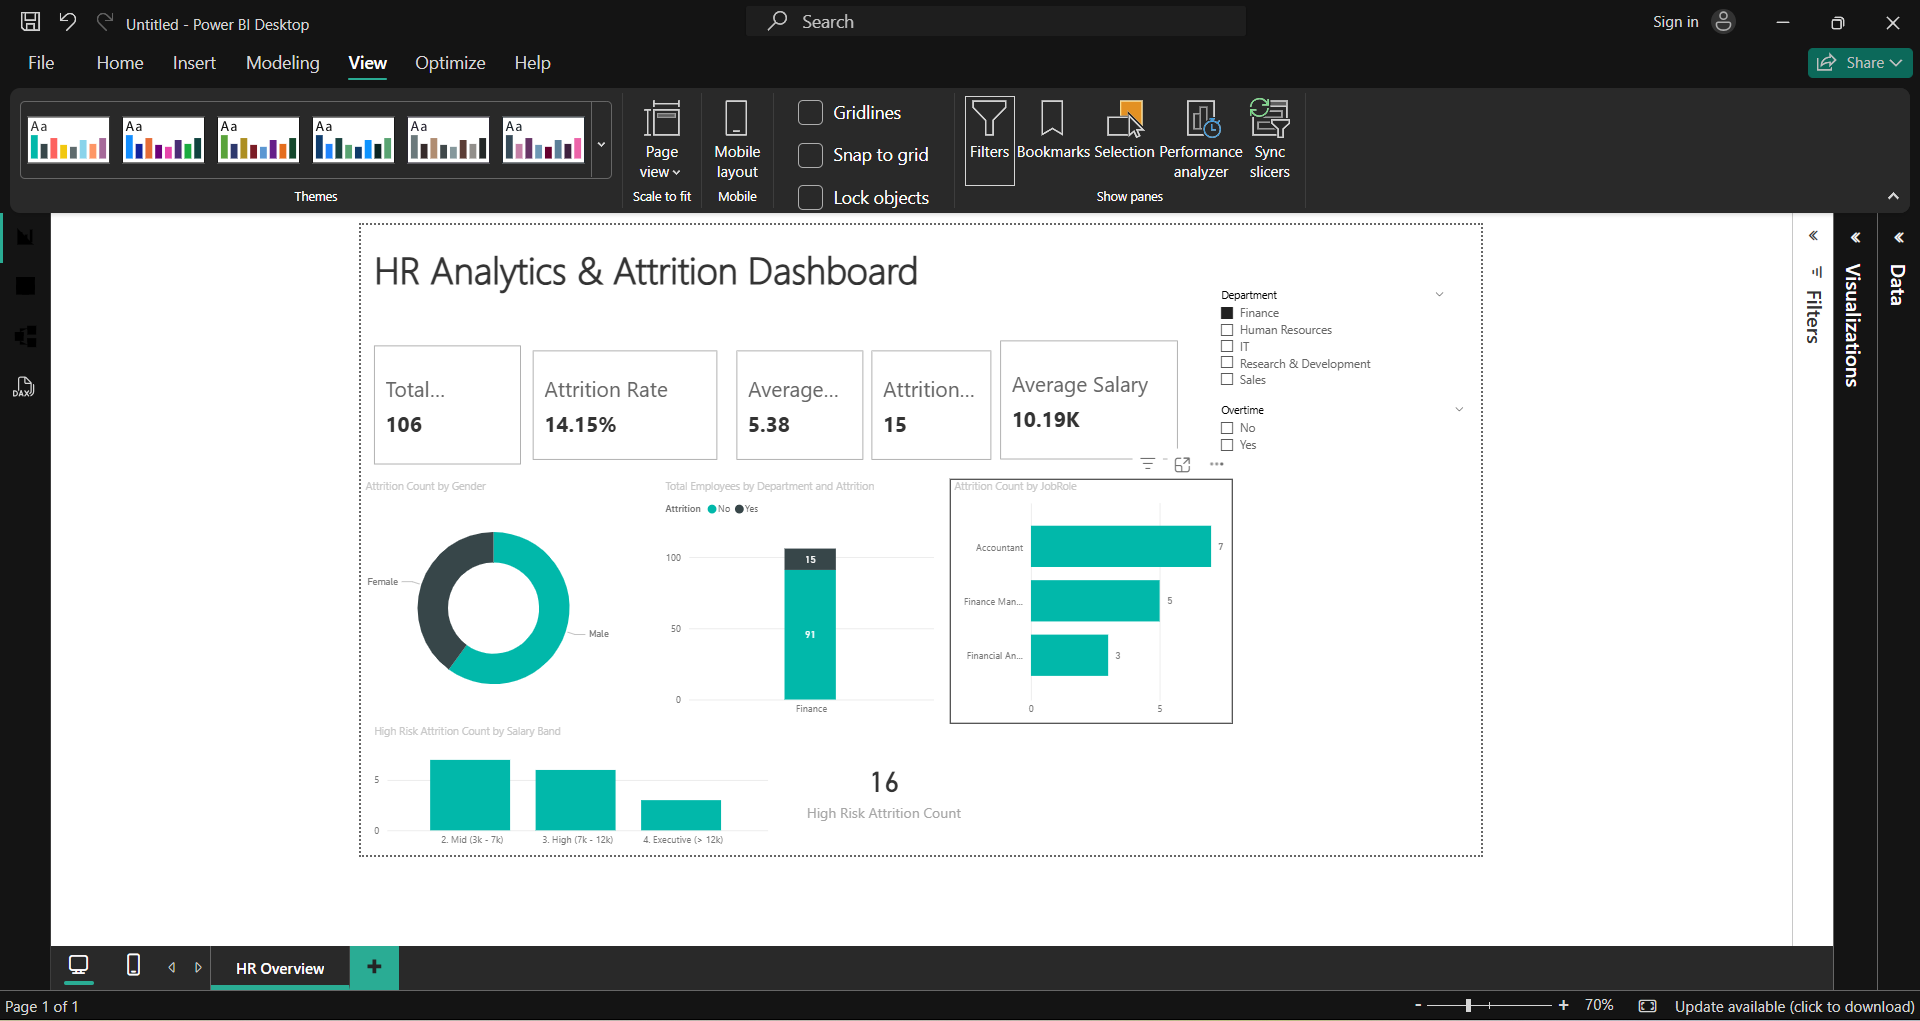

Layout of this report page (visuals, bound fields, positions):
{"tool":"powerbi","page":{"name":"HR Overview","canvas":[1280,720],"ordinal":0},"visuals":[{"type":"cardVisual","fields":{"Data":["HR_Employee_Data.Total Employees"]},"box":[10,133.3,178.3,146.7],"z":0},{"type":"cardVisual","fields":{"Data":["HR_Employee_Data.Attrition Count"]},"box":[578.8,138.8,147.5,135],"z":1},{"type":"cardVisual","fields":{"Data":["HR_Employee_Data.Attrition Rate"]},"box":[191.7,138.3,221.7,135],"z":2},{"type":"cardVisual","fields":{"Data":["HR_Employee_Data.Average Salary"]},"box":[726.2,127.5,213.8,146.2],"z":3},{"type":"cardVisual","fields":{"Data":["HR_Employee_Data.Average Tenure"]},"box":[423.8,138.8,155,135],"z":4},{"type":"columnChart","fields":{"Category":["HR_Employee_Data.Department"],"Y":["HR_Employee_Data.Total Employees"],"Series":["HR_Employee_Data.Attrition"]},"box":[343.3,290,316.7,280],"z":5},{"type":"clusteredBarChart","fields":{"Y":["HR_Employee_Data.Attrition Count"],"Category":["HR_Employee_Data.JobRole"]},"box":[673.3,290,321.7,280],"z":6},{"type":"donutChart","fields":{"Y":["HR_Employee_Data.Attrition Count"],"Category":["HR_Employee_Data.Gender"]},"box":[0,290,303.3,280],"z":7},{"type":"slicer","fields":{"Values":["HR_Employee_Data.Department"]},"box":[970,66.7,280,190],"z":8},{"type":"textbox","box":[10,15,745,95],"z":9},{"type":"slicer","fields":{"Values":["HR_Employee_Data.Overtime"]},"box":[970,198.8,302.5,81.2],"z":10},{"type":"clusteredColumnChart","fields":{"Category":["HR_Employee_Data.Salary Band"],"Y":["HR_Employee_Data.High Risk Attrition Count"]},"box":[10,570,460,150],"z":11},{"type":"card","fields":{"Values":["HR_Employee_Data.High Risk Attrition Count"]},"box":[501.2,570,192.5,150],"z":12}]}

Visuals, with their boxes on the page's 1280x720 design canvas (x1, y1, x2, y2). These are canvas units, not pixel positions in the 1920x1021 screenshot, which may show the page scaled, cropped or inside an application window:
cardVisual - HR_Employee_Data.Total Employees: l=10, t=133, r=188, b=280
cardVisual - HR_Employee_Data.Attrition Count: l=579, t=139, r=726, b=274
cardVisual - HR_Employee_Data.Attrition Rate: l=192, t=138, r=413, b=273
cardVisual - HR_Employee_Data.Average Salary: l=726, t=128, r=940, b=274
cardVisual - HR_Employee_Data.Average Tenure: l=424, t=139, r=579, b=274
columnChart - HR_Employee_Data.Department x HR_Employee_Data.Total Employees: l=343, t=290, r=660, b=570
clusteredBarChart - HR_Employee_Data.Attrition Count x HR_Employee_Data.JobRole: l=673, t=290, r=995, b=570
donutChart - HR_Employee_Data.Attrition Count x HR_Employee_Data.Gender: l=0, t=290, r=303, b=570
slicer - HR_Employee_Data.Department: l=970, t=67, r=1250, b=257
textbox: l=10, t=15, r=755, b=110
slicer - HR_Employee_Data.Overtime: l=970, t=199, r=1272, b=280
clusteredColumnChart - HR_Employee_Data.Salary Band x HR_Employee_Data.High Risk Attrition Count: l=10, t=570, r=470, b=720
card - HR_Employee_Data.High Risk Attrition Count: l=501, t=570, r=694, b=720
